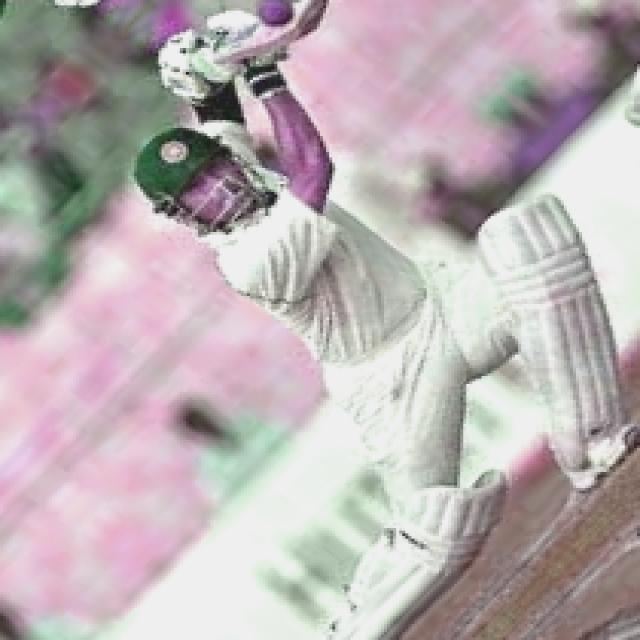bat: (199, 0, 331, 65)
toe: (292, 0, 330, 37)
